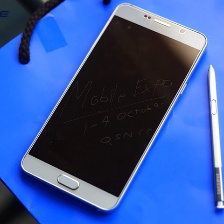phone: (16, 0, 208, 216)
